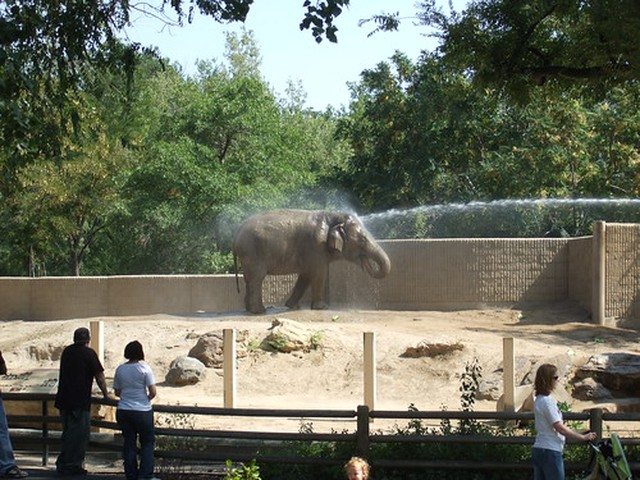Elephant: (226, 208, 403, 313)
Person: (112, 337, 171, 478), (56, 328, 110, 476), (532, 364, 597, 477), (1, 345, 29, 478)
